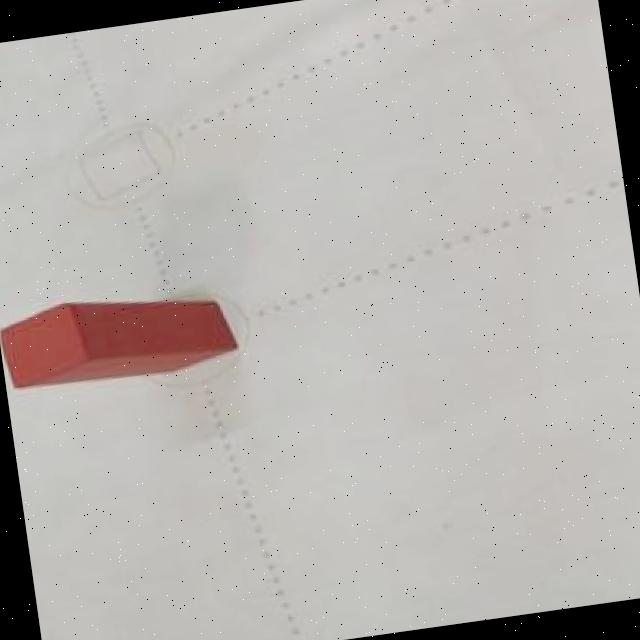redbox: (0, 281, 241, 393)
